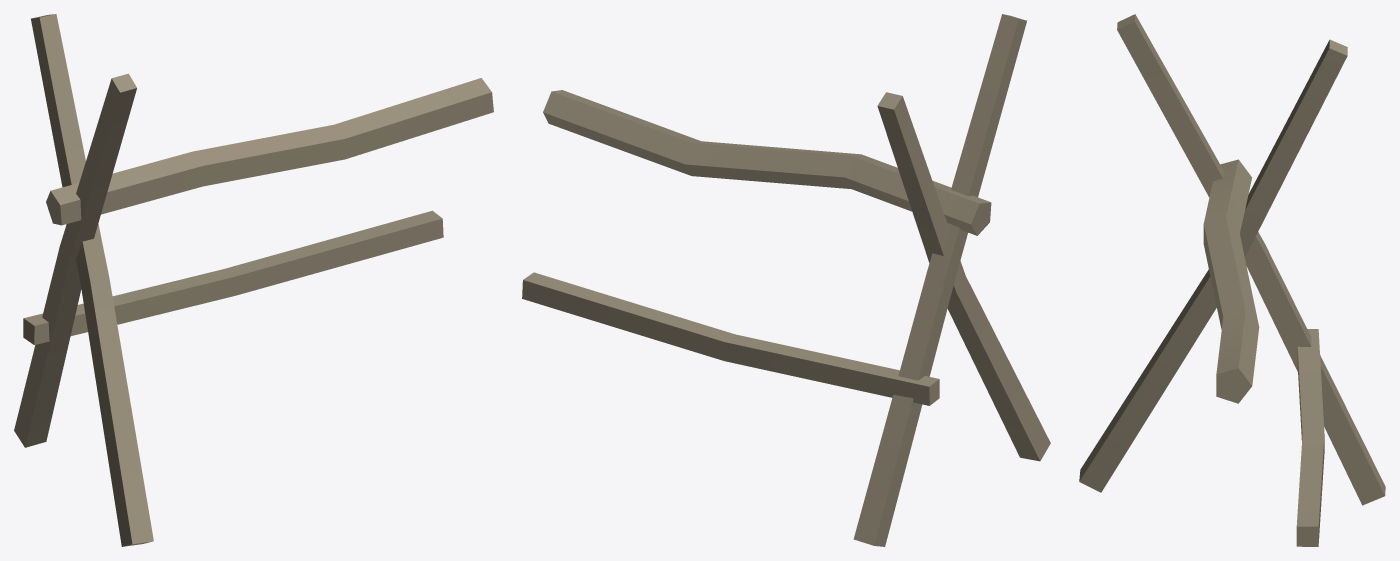
File: BuckFence.fbx
The picture shows the model from 3 angles, left to right: view 1: azimuth 30°, elevation 25°; view 2: azimuth 150°, elevation 25°; view 3: azimuth 270°, elevation 25°; orthographic projection. The views are drawn at different scales.
Parts seen in each view (by area): view 1: BuckFence; view 2: BuckFence; view 3: BuckFence.
Part boxes in pixels (left/top/right/bottom): BuckFence: left=14, top=14, right=493, bottom=546; BuckFence: left=522, top=14, right=1050, bottom=546; BuckFence: left=1079, top=14, right=1385, bottom=546.
Bounding box in the file's own units: 1.17 × 1.18 × 0.6925.
